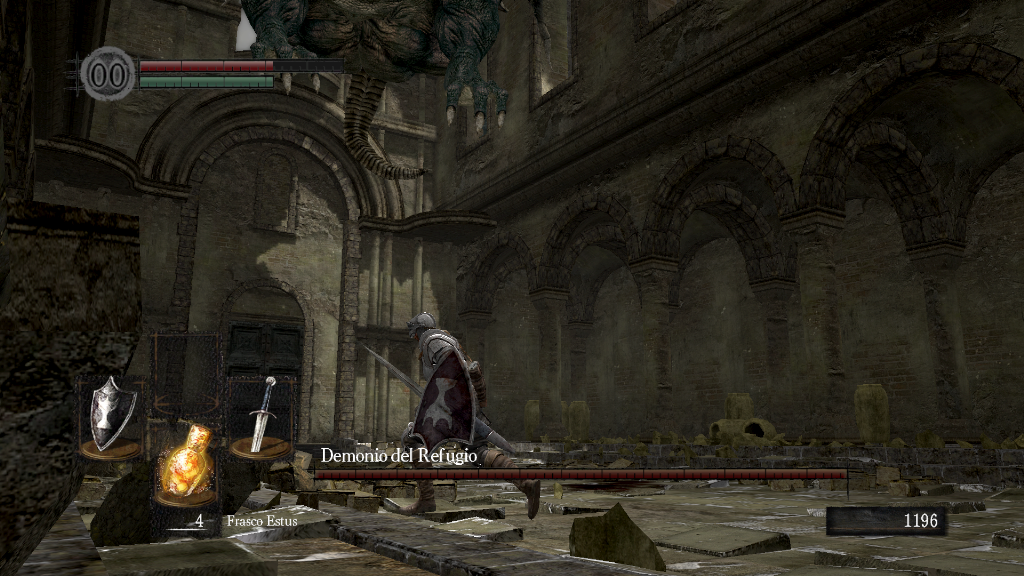asylumDemon: (236, 1, 513, 182)
bossHP: (314, 469, 847, 479)
health: (138, 58, 343, 71)
humanity: (80, 45, 136, 102)
player: (358, 311, 544, 520)
souls: (825, 506, 945, 536)
stamina: (138, 74, 274, 88)
